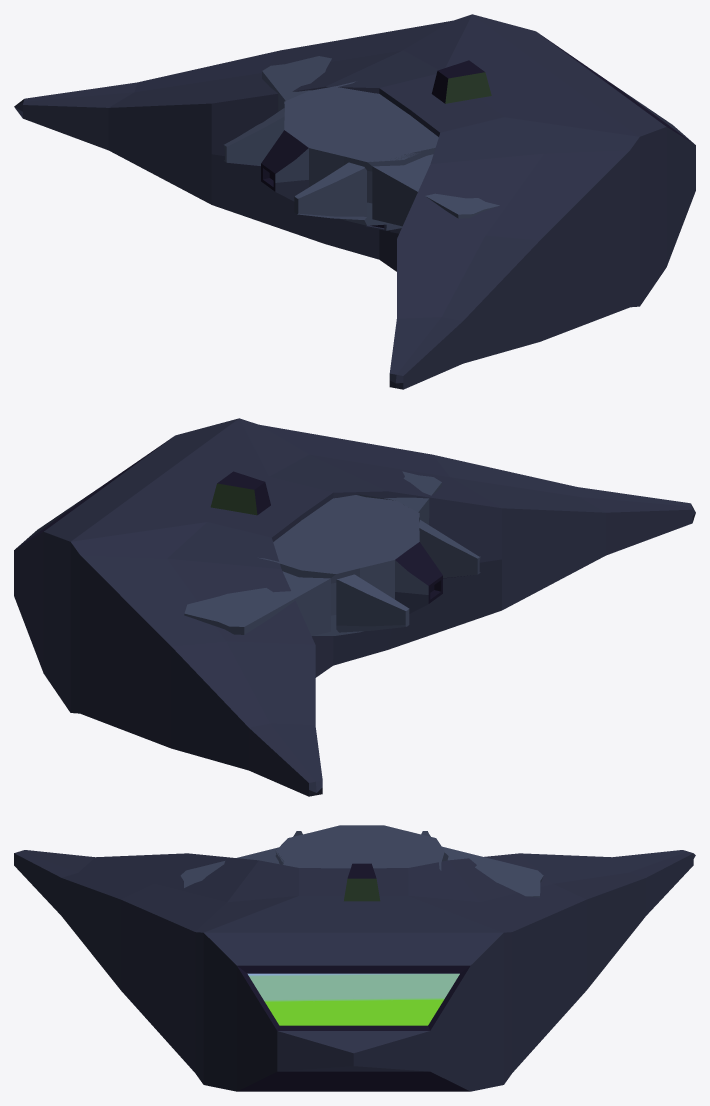
The model's file is M_Spaceship_03.fbx.
3 views of the same model, one above another, from view 1: azimuth 30°, elevation 25°; view 2: azimuth 150°, elevation 25°; view 3: azimuth 270°, elevation 25° (orthographic). The views are drawn at different scales.
Parts seen in each view (by area): view 1: Spaceship_01, Spaceship_03; view 2: Spaceship_01, Spaceship_03; view 3: Spaceship_01, Spaceship_03.
Boxes of the visible parts, left/top/right/bottom form: Spaceship_01: left=14, top=14, right=695, bottom=389; Spaceship_03: left=224, top=56, right=499, bottom=226; Spaceship_01: left=14, top=418, right=695, bottom=796; Spaceship_03: left=184, top=471, right=480, bottom=635; Spaceship_01: left=14, top=850, right=695, bottom=1091; Spaceship_03: left=180, top=825, right=543, bottom=901.
Bounding box in the file's own units: 241 × 96.11 × 340.
3 materials, 3 textured.
